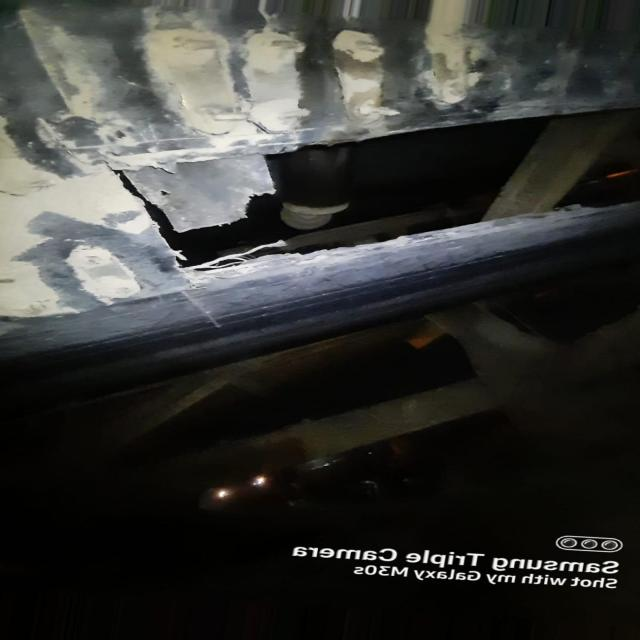Hole: (116, 105, 640, 275)
